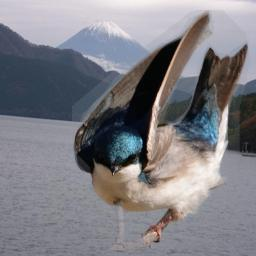Swallow: (72, 10, 251, 250)
